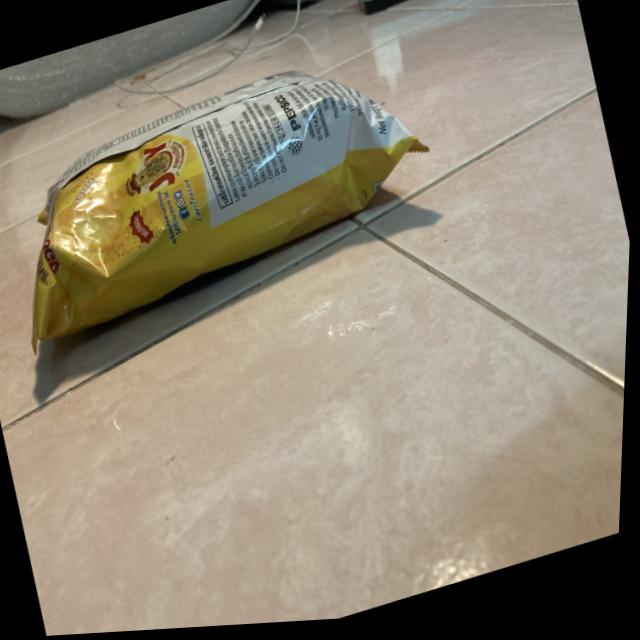LayYellow: (0, 52, 447, 350)
